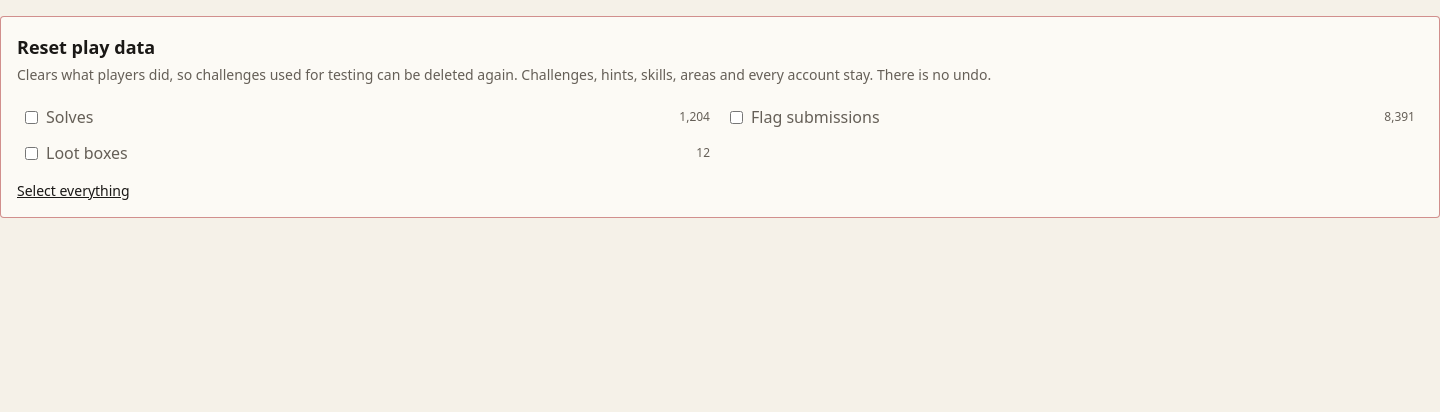
Test: ResetPlayDataPanel › totals only the groups that are ticked
Click the checkbox labelled "Solves 1,204" at (32, 117), box left=25, top=110, right=38, bottom=124
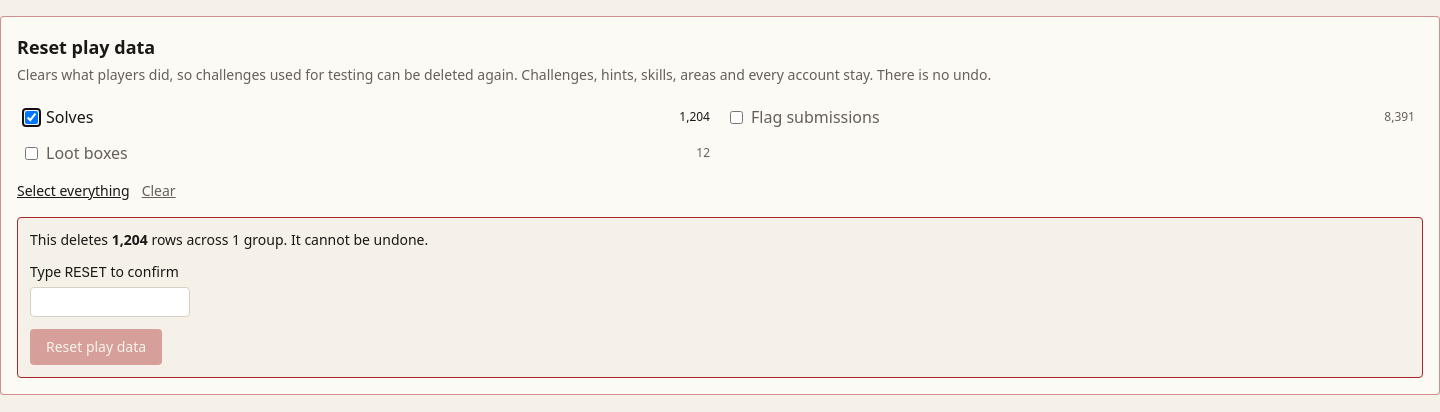
Expected: the text "1,204" next to "This deletes" is shown, left=112, top=230, right=148, bottom=249
